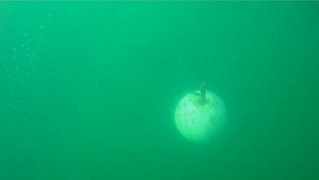buoy: (173, 89, 229, 145)
